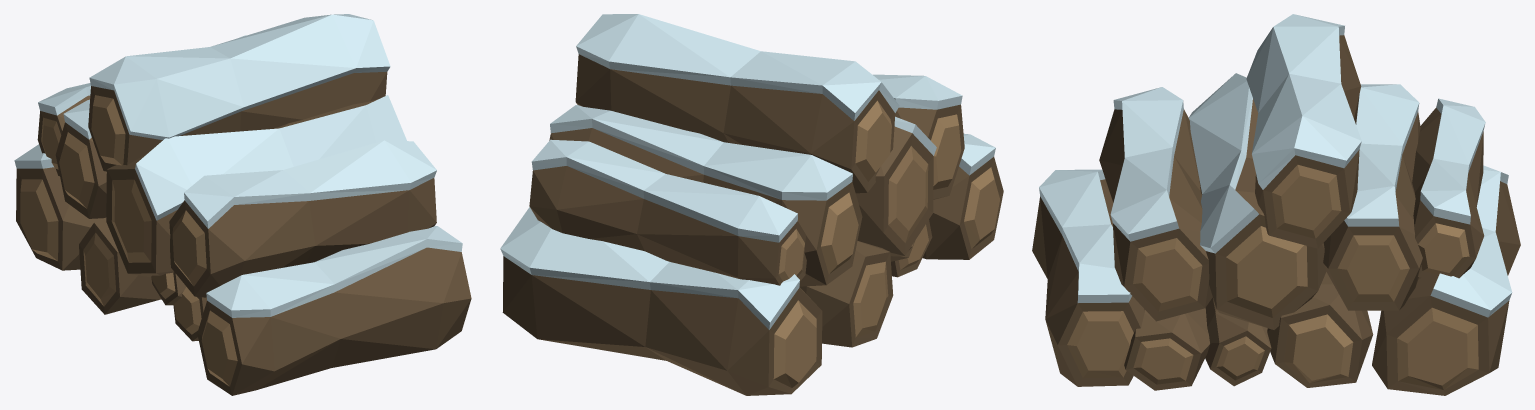
Rendered from SM_Prop_Logs_01_Snow.fbx.
3 renders of one model, left to right at view 1: azimuth 30°, elevation 25°; view 2: azimuth 150°, elevation 25°; view 3: azimuth 270°, elevation 25°, orthographic. The views are drawn at different scales.
Visible parts, largest first — view 1: SM_Prop_Logs_01_Snow; view 2: SM_Prop_Logs_01_Snow; view 3: SM_Prop_Logs_01_Snow.
Boxes of the visible parts, x1,y1,x2,y2 form: SM_Prop_Logs_01_Snow: [14, 14, 471, 395]; SM_Prop_Logs_01_Snow: [500, 14, 1003, 395]; SM_Prop_Logs_01_Snow: [1032, 14, 1520, 395].
Bounding box in the file's own units: 113 × 101 × 168.
